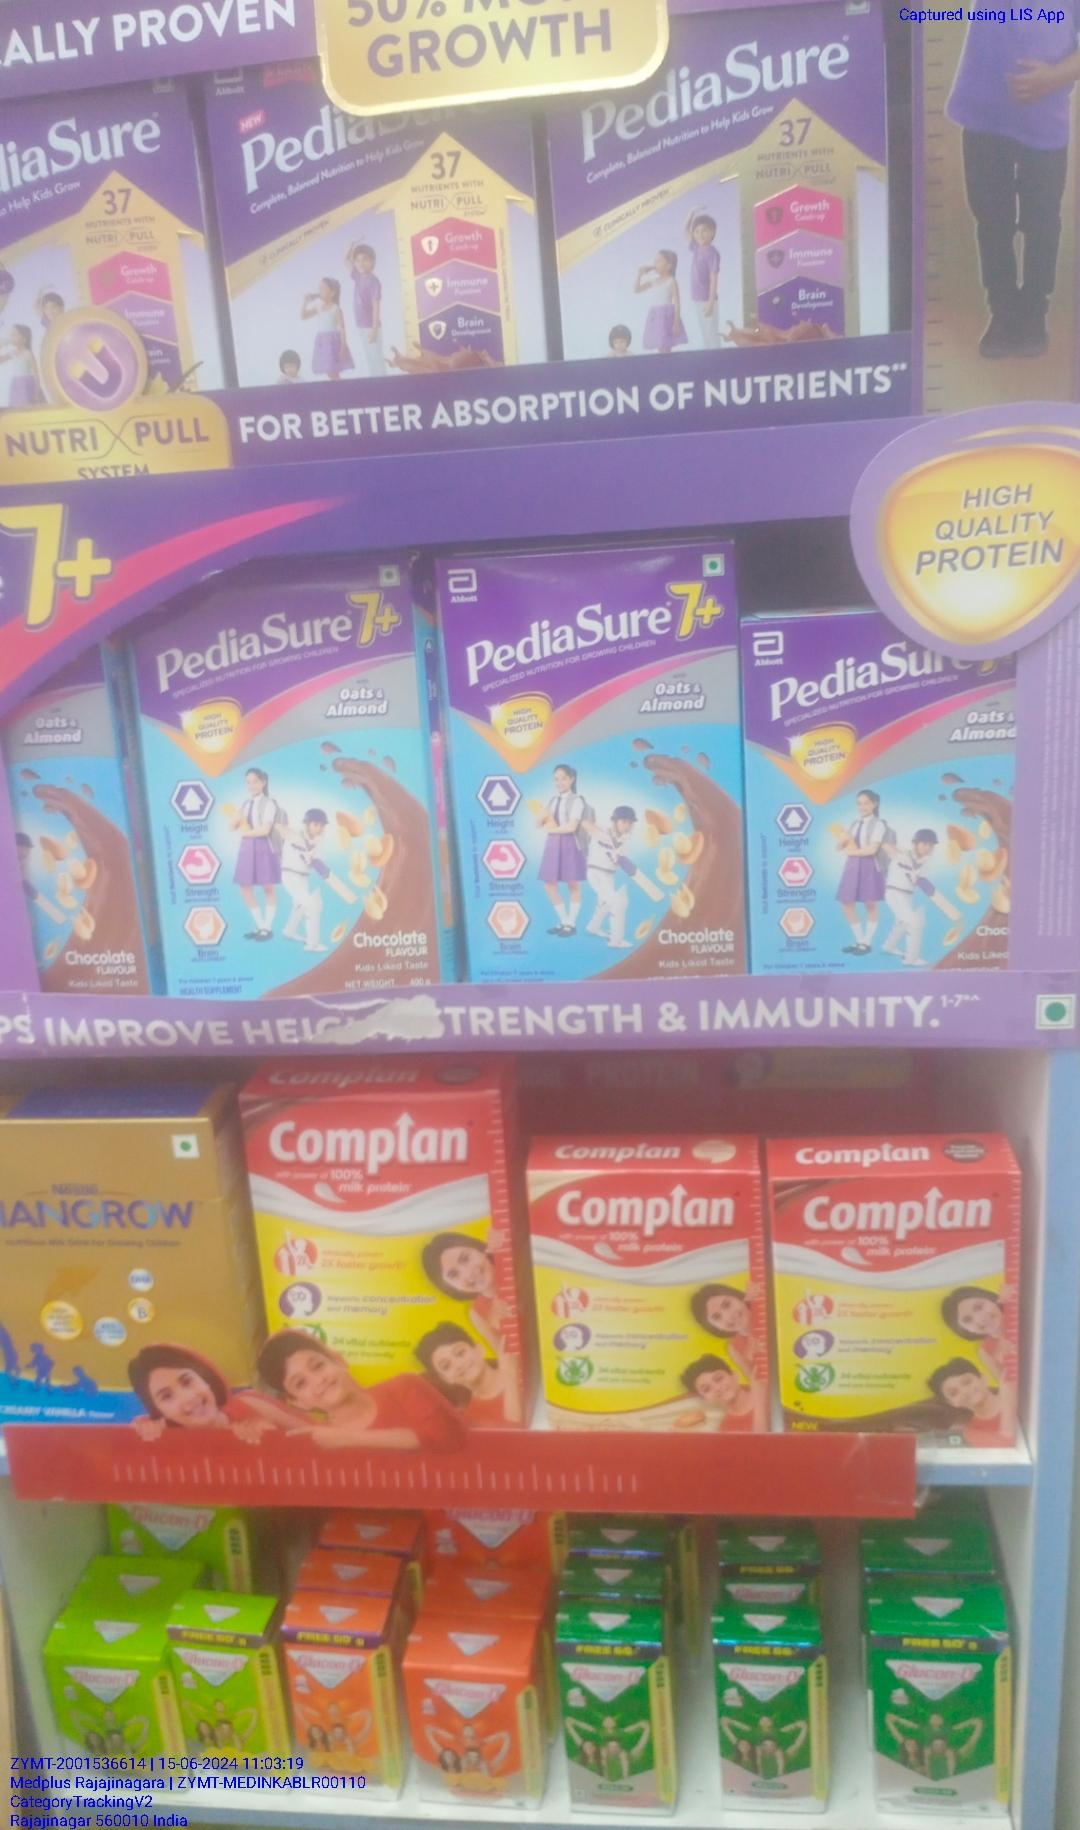COMPLAN_CHOCOLATE_200_GMS_PACK: (782, 1176, 1020, 1430)
COMPLAN_CHOCOLATE_500_GMS_PACK: (261, 1094, 504, 1339)
COMPLAN_KESAR_BADAM_200_GMS_PACK: (531, 1172, 769, 1432)
PEDIASURE_7_PLUS_CHOCOLATE_400_G_PACK: (751, 625, 1011, 972)
